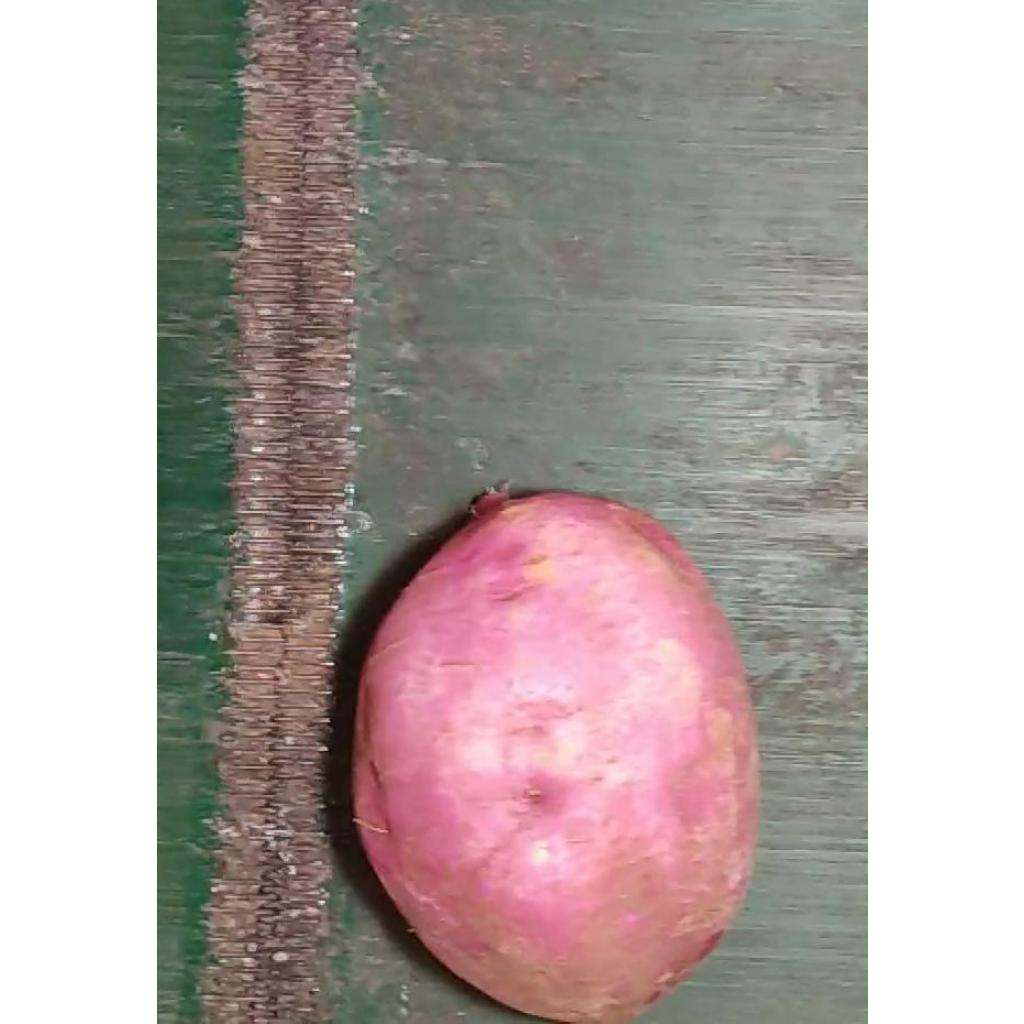Sweet Potato: (350, 490, 760, 1024)
